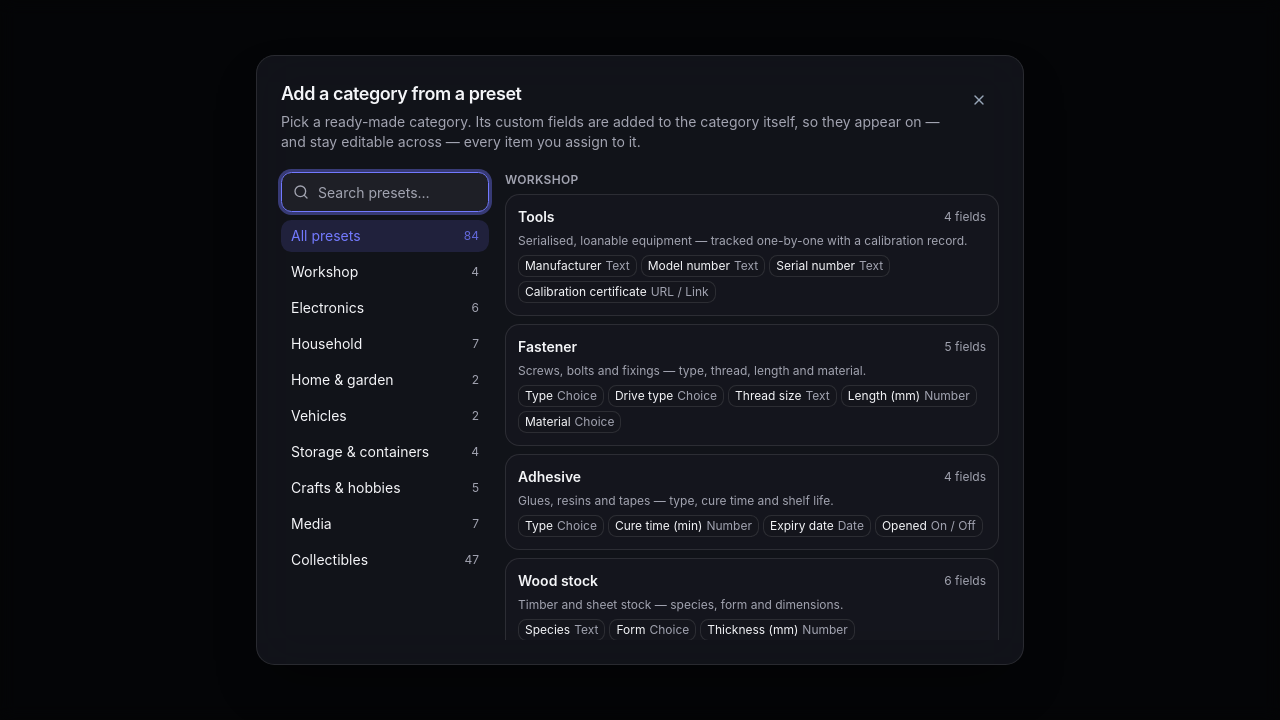
Test case: CategoryPresetPickerDialog — search › shows the clear button only while there is text, and clearing restores the library
Type "isbn" into the field labelled "Search presets".
click(385, 192); type("isbn")  # box left=281, top=172, right=489, bottom=212
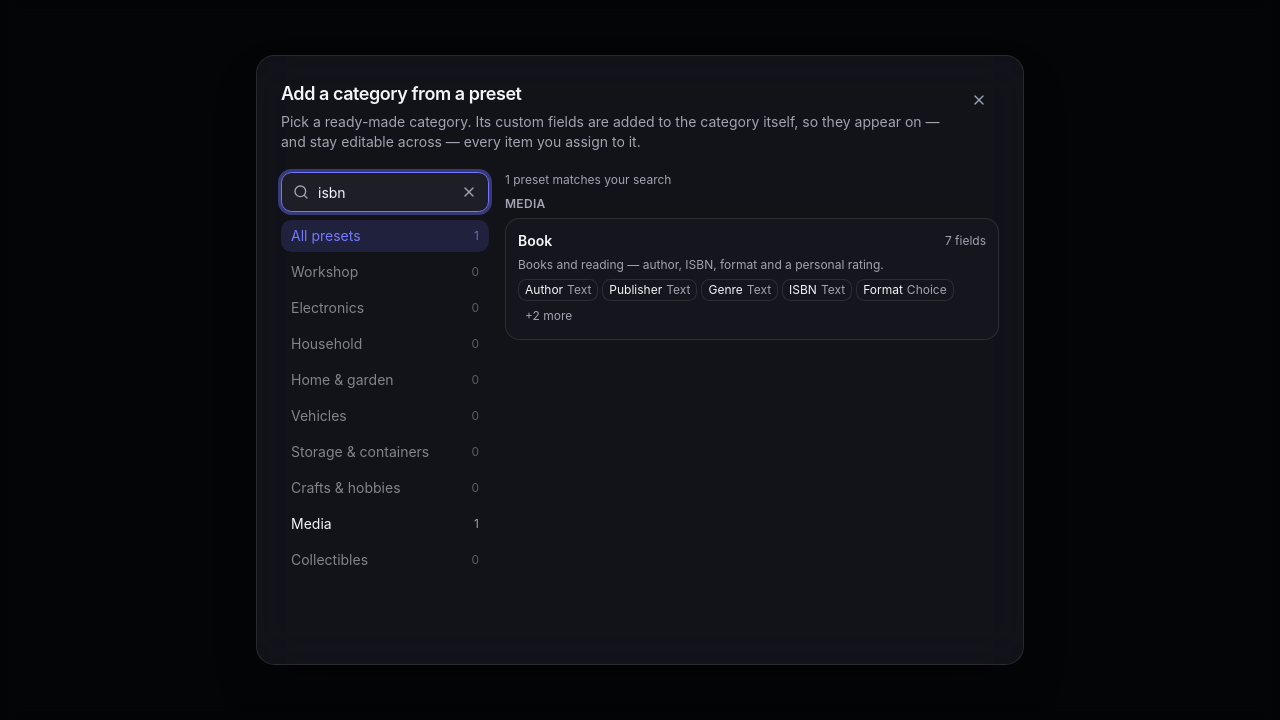
Click the button named "Clear search".
click(469, 192)  # box left=455, top=178, right=483, bottom=206
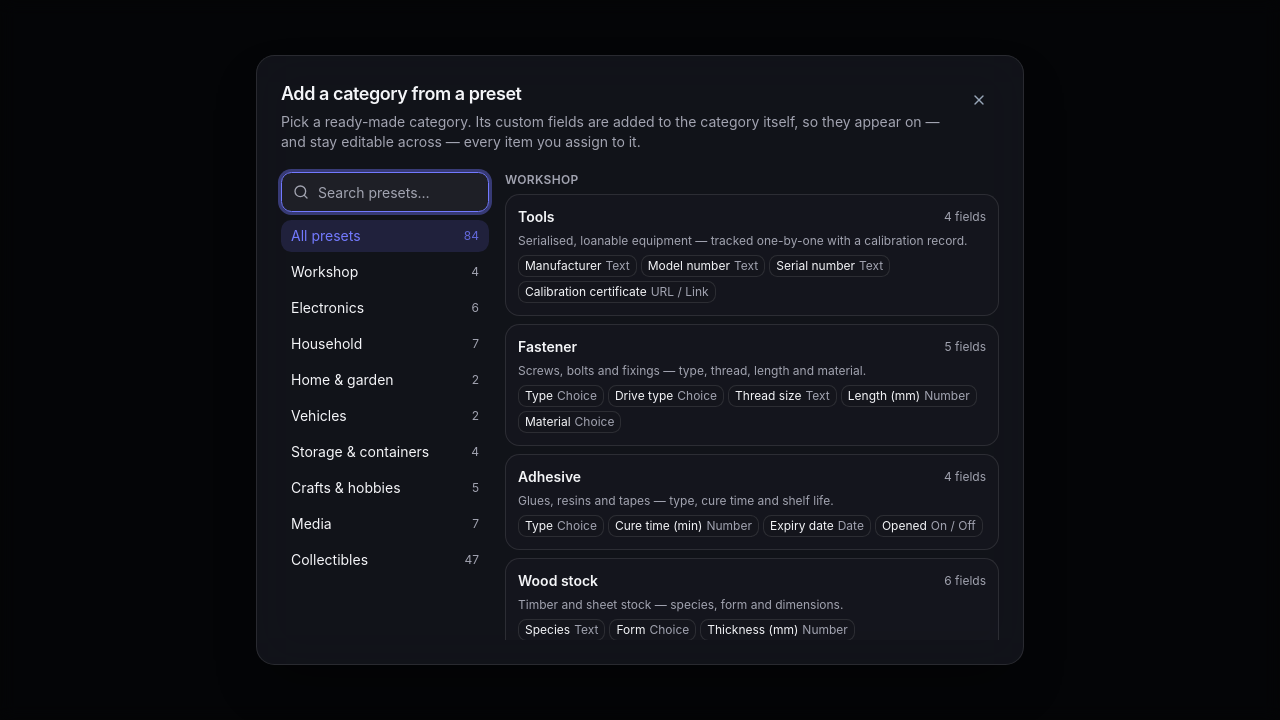
Now the field labelled "Search presets" is empty, box left=281, top=172, right=489, bottom=212
Now the button with aria-label "Add Tools preset" is shown, box left=505, top=194, right=999, bottom=316
